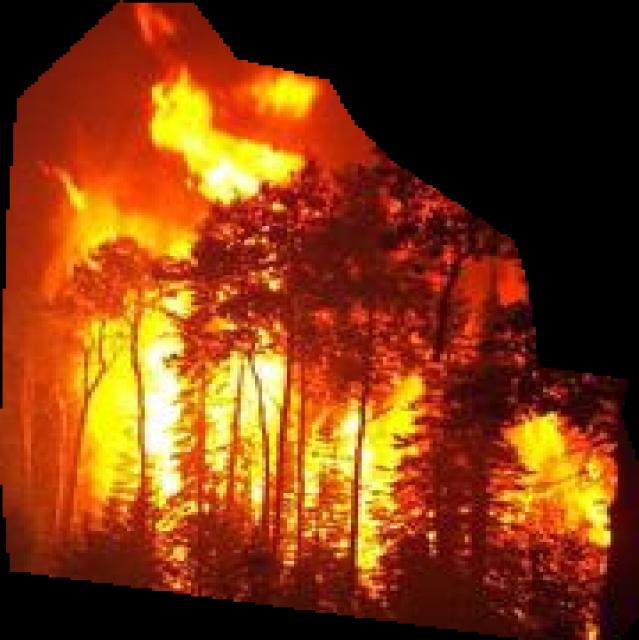fire: (1, 0, 639, 640)
